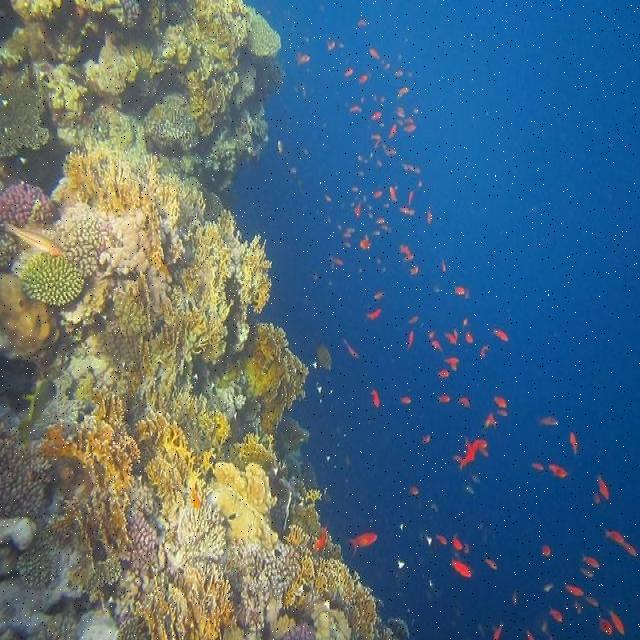fish: (22, 380, 57, 443), (3, 222, 64, 255), (453, 435, 488, 472), (346, 532, 378, 558), (313, 341, 332, 371), (607, 609, 624, 634), (451, 558, 473, 577), (595, 473, 609, 500), (604, 528, 624, 545), (489, 326, 510, 342), (599, 615, 613, 635), (549, 464, 569, 478), (581, 554, 600, 567), (565, 585, 585, 596), (549, 608, 564, 622), (492, 394, 507, 408), (570, 431, 578, 455), (371, 388, 381, 407), (453, 535, 463, 551)
reefs: (0, 102, 409, 638), (0, 1, 286, 195)
